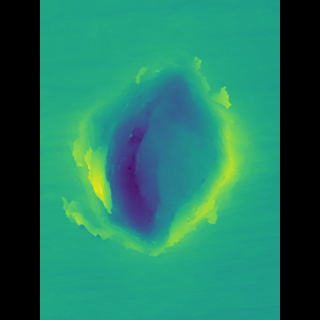Loch: (84, 44, 238, 259)
